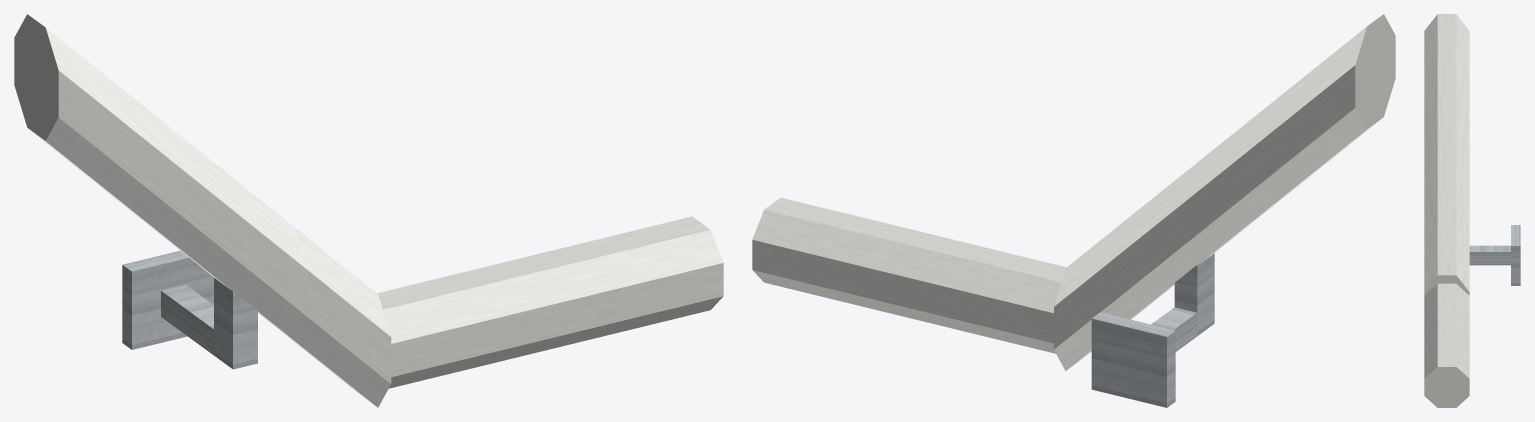
Rendered from foot_neg.obj.
The picture shows the model from 3 angles, left to right: view 1: azimuth 30°, elevation 25°; view 2: azimuth 150°, elevation 25°; view 3: azimuth 270°, elevation 25°; orthographic projection. The views are drawn at different scales.
Parts seen in each view (by area): view 1: handrail_wall_white_round_foot_neg; view 2: handrail_wall_white_round_foot_neg; view 3: handrail_wall_white_round_foot_neg.
Boxes of the visible parts, x1=… form: handrail_wall_white_round_foot_neg: x1=14, y1=14, x2=723, y2=407; handrail_wall_white_round_foot_neg: x1=752, y1=14, x2=1395, y2=407; handrail_wall_white_round_foot_neg: x1=1424, y1=14, x2=1520, y2=407.
Size of the model in its own units: 1 by 0.6633 by 0.2452.
